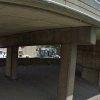Bridge: (8, 3, 98, 73)
